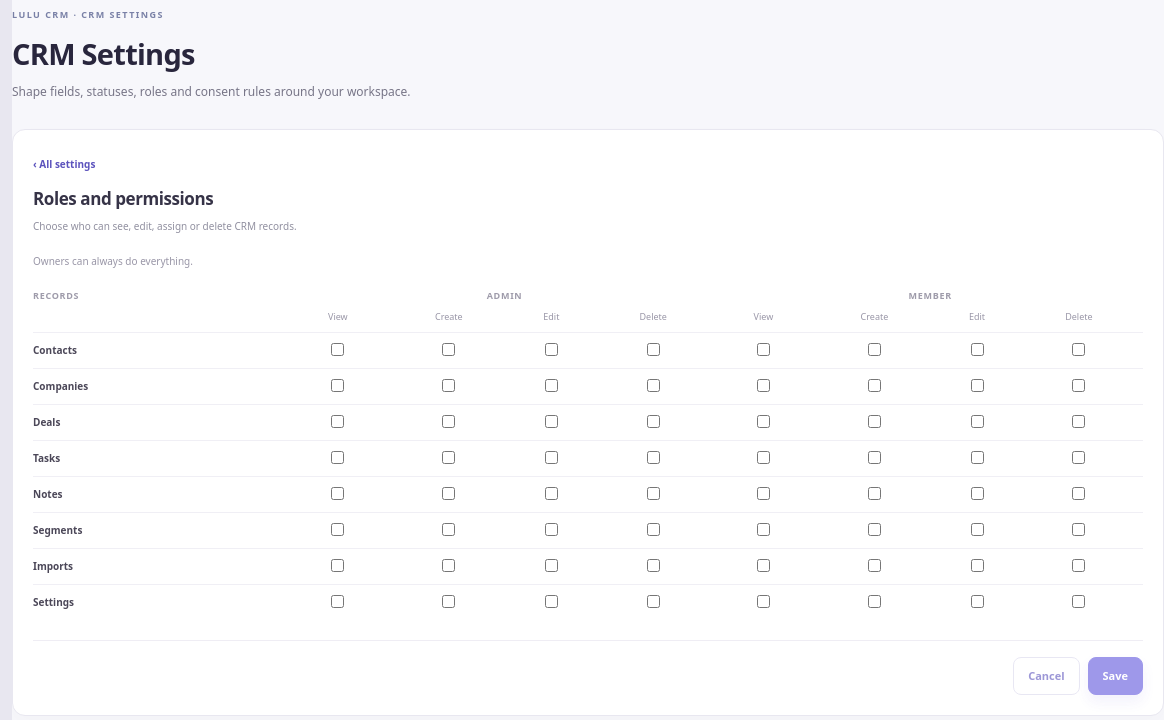
Test: Roles, consent and notifications › saves role permissions
Click the checkbox named "Member can Delete Contacts" at (1079, 350), box [1072,343,1085,356]
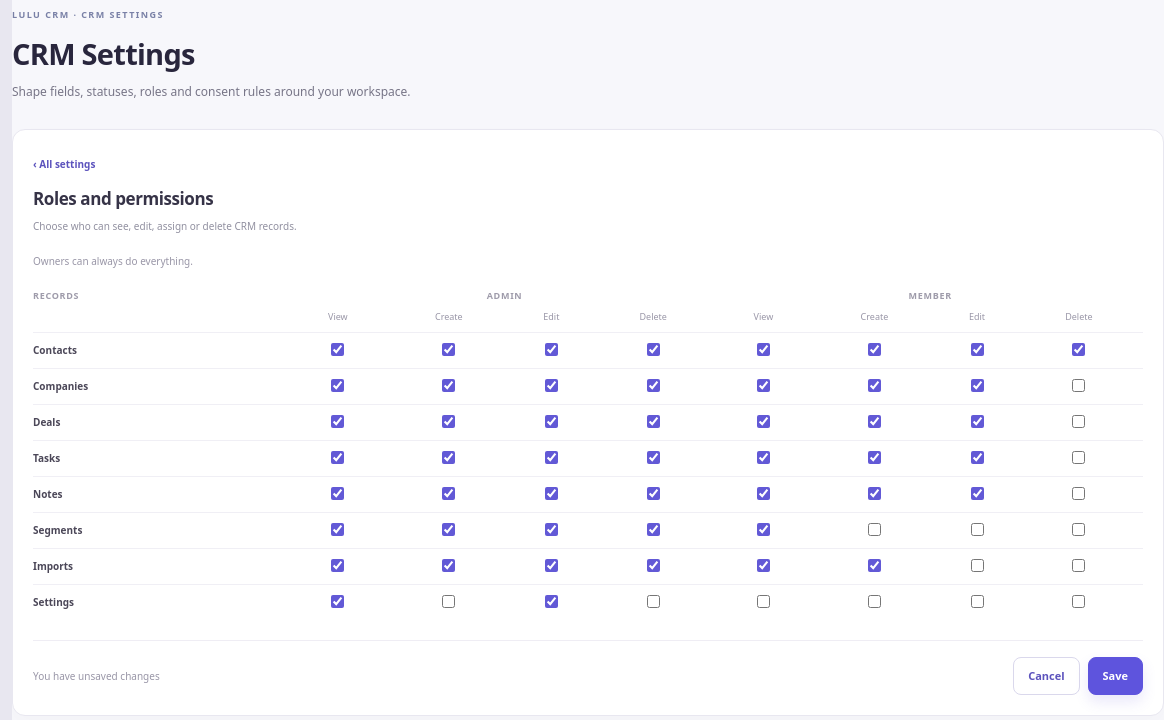
Click the button "Save" at (1115, 676), box [1088,657,1143,695]
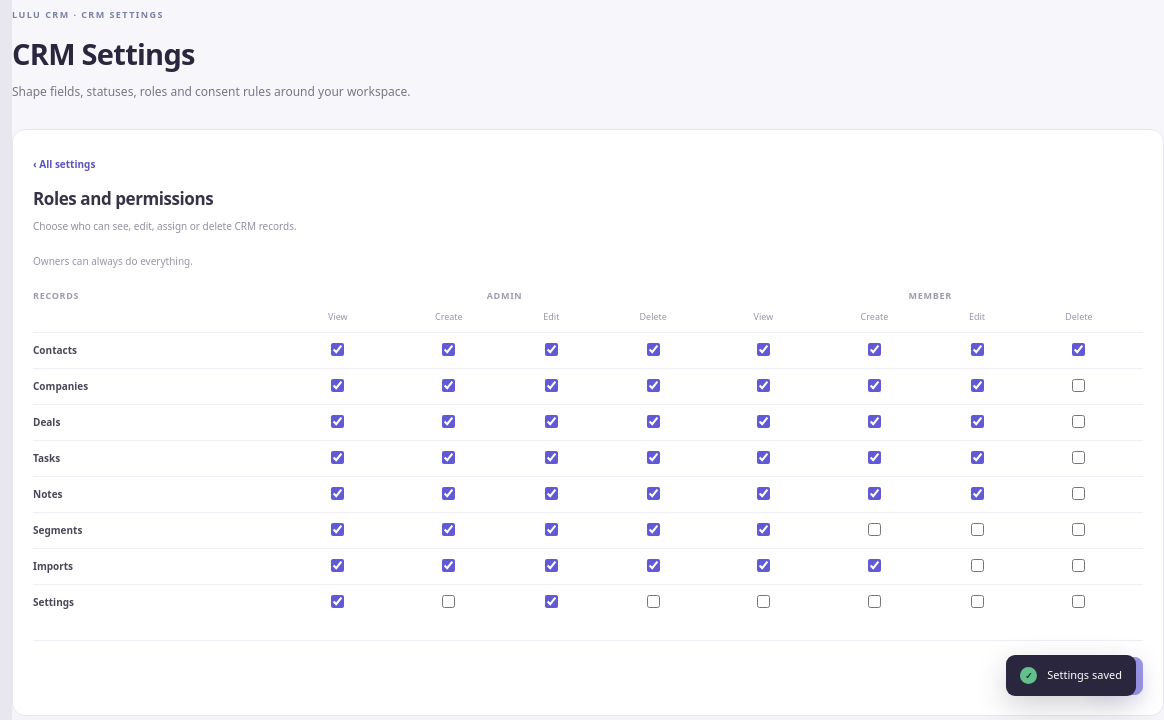
Now the text "Settings saved" is shown, box [1047,667,1122,682]
